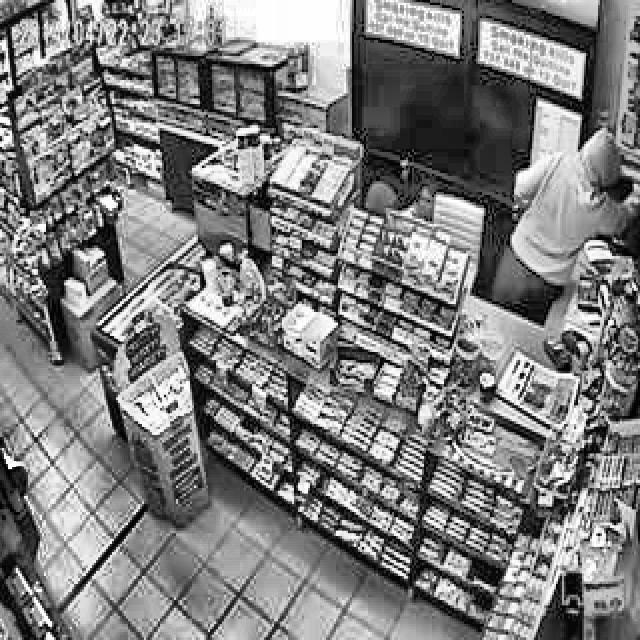robbery: (486, 123, 640, 315)
